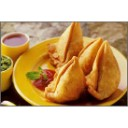samosa: (46, 56, 85, 103), (93, 40, 122, 97), (51, 22, 84, 60)
